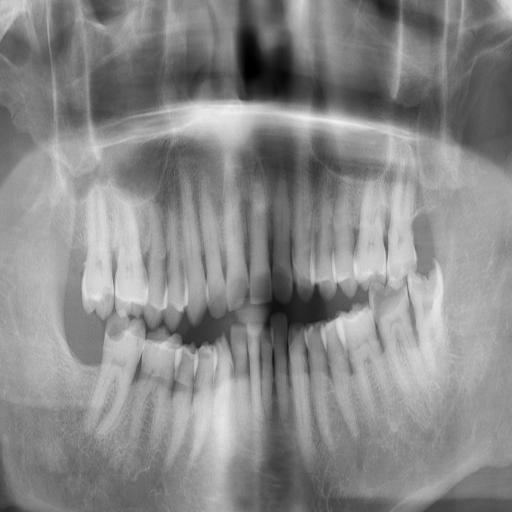Wisdom teeth: (407, 259, 442, 365)
